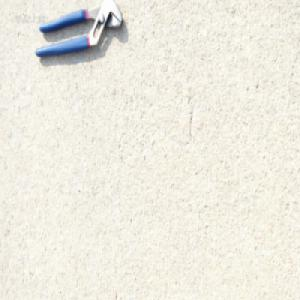Pliers: (33, 0, 123, 60)
